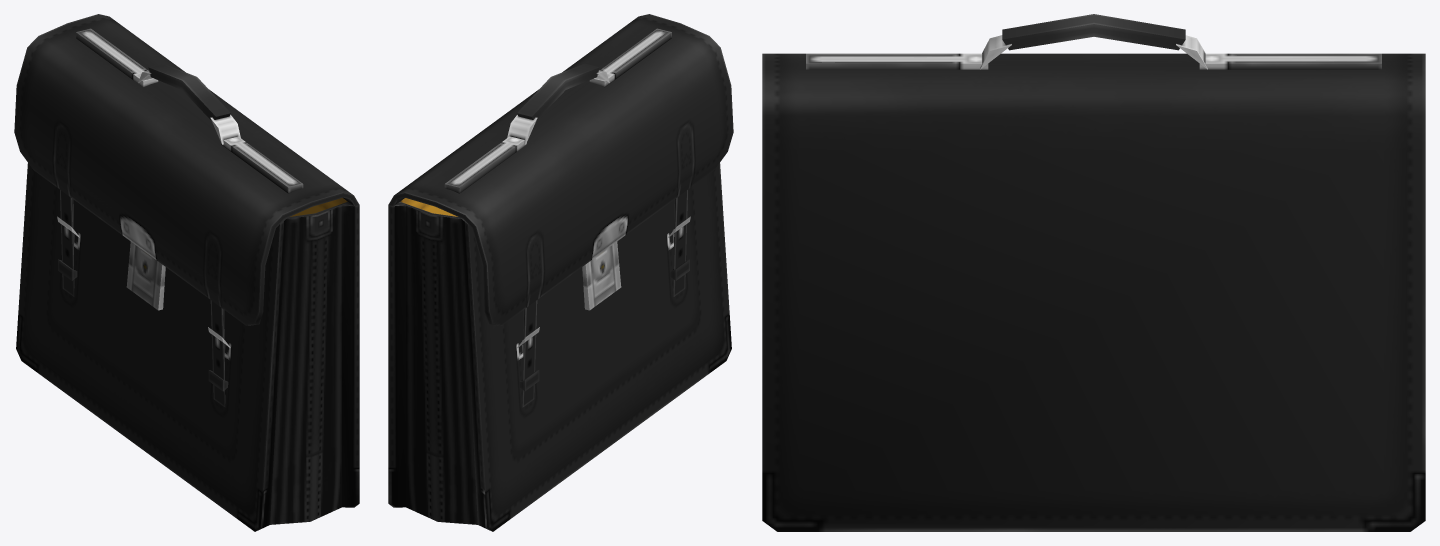
File: School_bag_B_01_01.fbx
3 views of the same model, side by side, from view 1: azimuth 30°, elevation 25°; view 2: azimuth 150°, elevation 25°; view 3: azimuth 270°, elevation 25° (orthographic). The views are drawn at different scales.
Visible parts, largest first — view 1: school_bag_B_01_01; view 2: school_bag_B_01_01; view 3: school_bag_B_01_01.
Boxes of the visible parts, left/top/right/bottom form: school_bag_B_01_01: left=14, top=14, right=359, bottom=531; school_bag_B_01_01: left=388, top=14, right=733, bottom=531; school_bag_B_01_01: left=762, top=14, right=1425, bottom=531.
Bounding box in the file's own units: 9.27 × 31.25 × 39.
